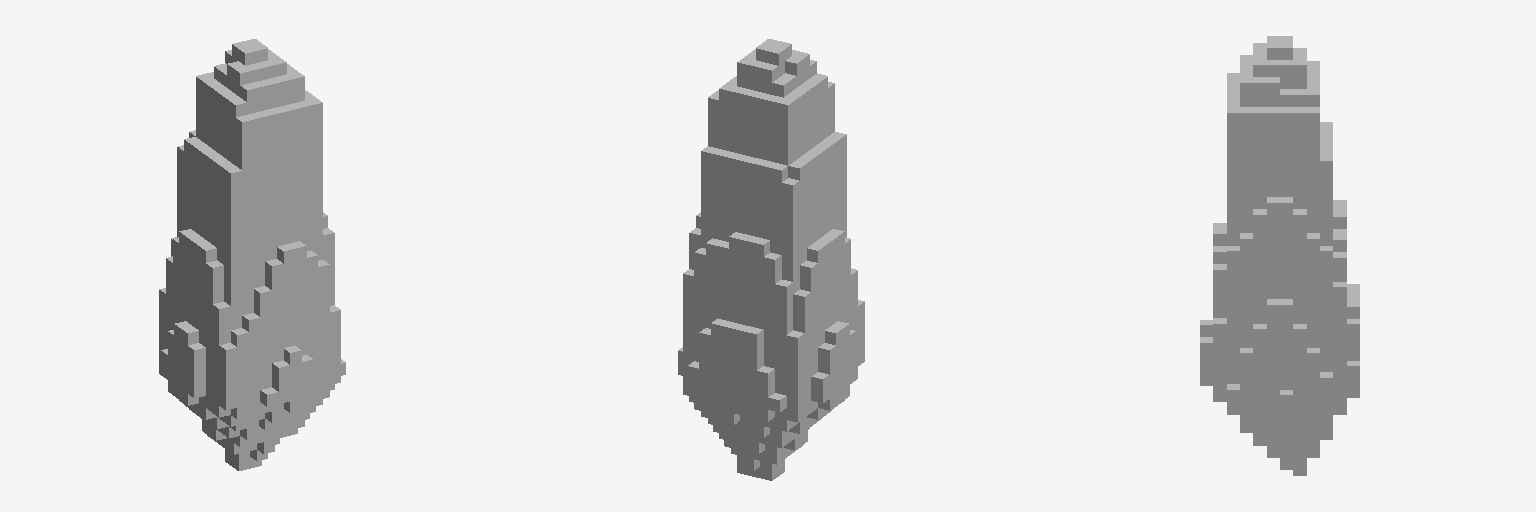
File: arc_voxelmodel.obj
3 renders of one model, left to right at view 1: azimuth 30°, elevation 25°; view 2: azimuth 150°, elevation 25°; view 3: azimuth 270°, elevation 25°, orthographic.
Size of the model in its own units: 3.25 by 8.75 by 3.